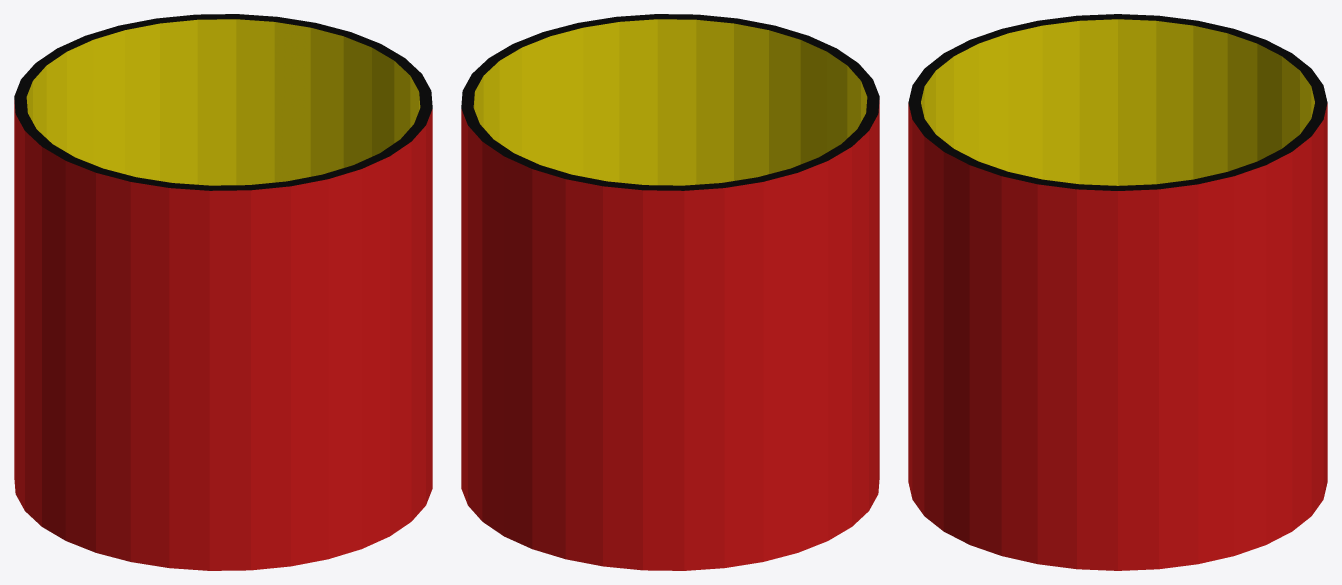
File: cylHohl.dae
3 views of the same model, side by side, from view 1: azimuth 30°, elevation 25°; view 2: azimuth 150°, elevation 25°; view 3: azimuth 270°, elevation 25° (orthographic).
Visible parts, largest first — view 1: Cylinder; view 2: Cylinder; view 3: Cylinder.
Part boxes in pixels (x1,y1,x2,y2): Cylinder: (14,14,432,570); Cylinder: (461,14,879,570); Cylinder: (908,14,1327,570).
Bounding box in the file's own units: 2 × 2 × 2.
1 material, 1 textured.
